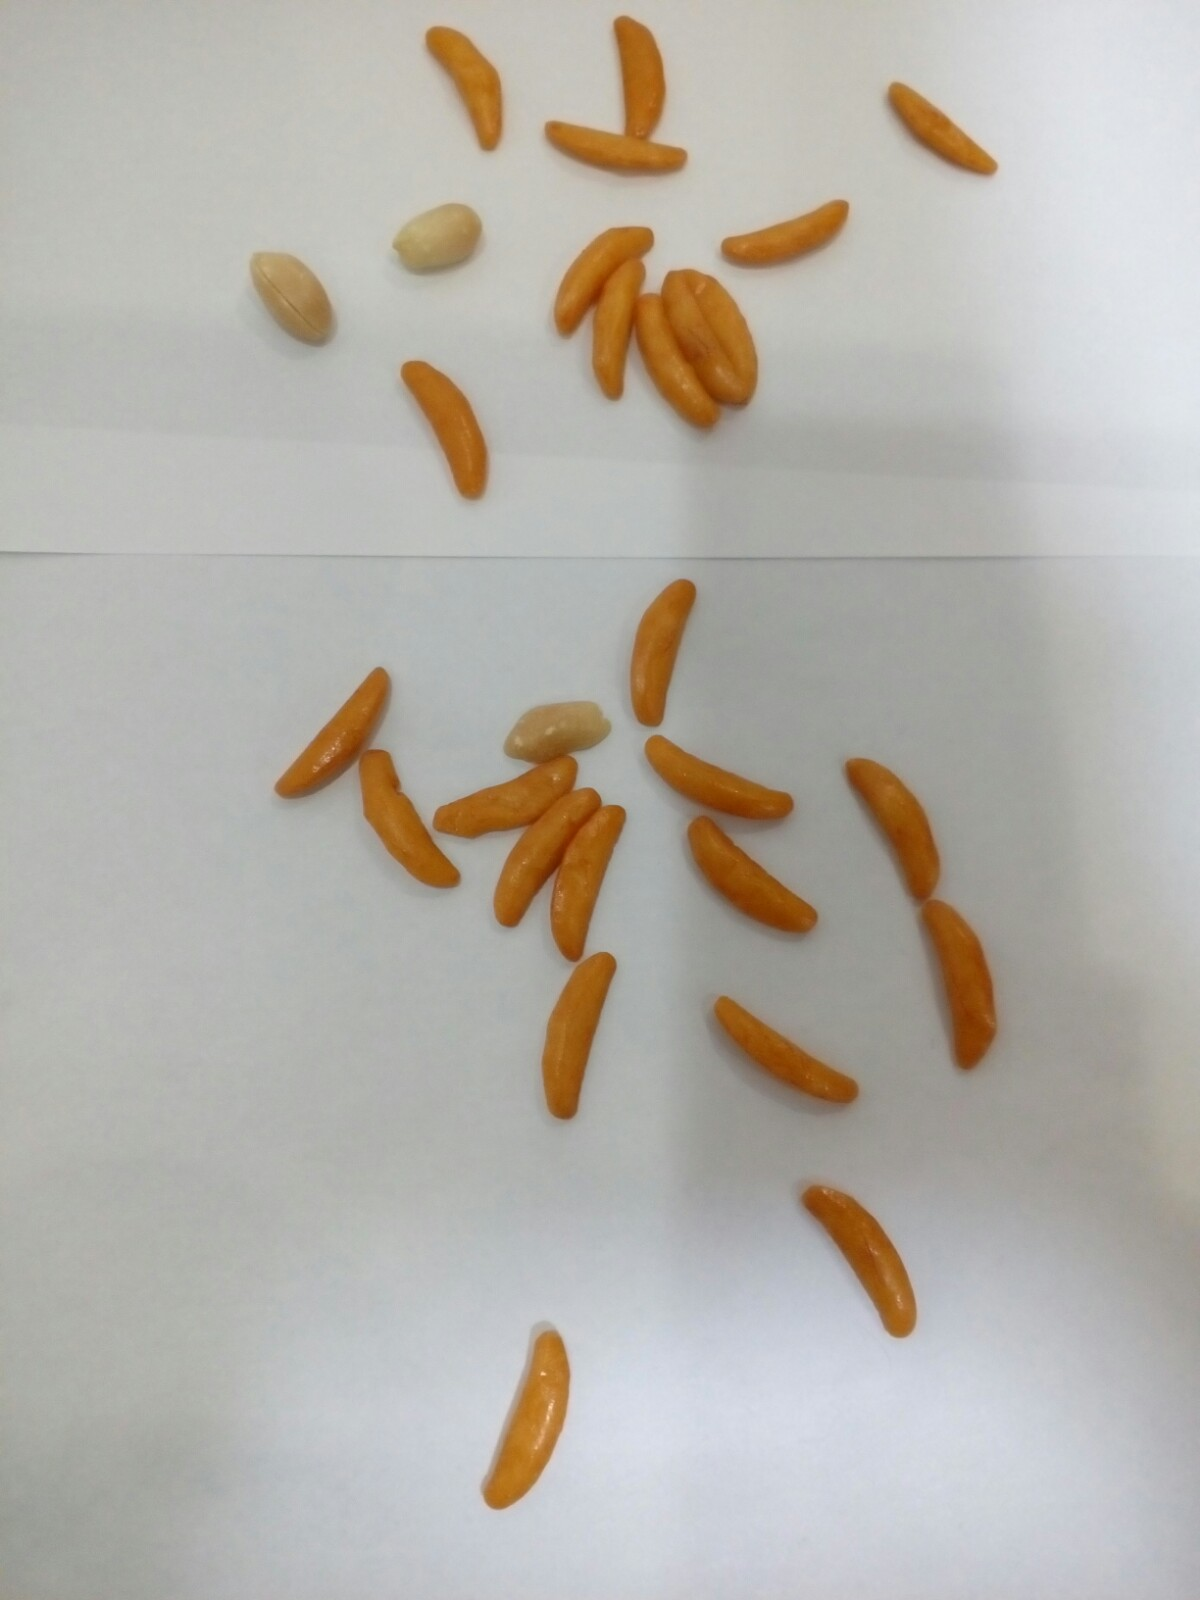peanut: (237, 239, 355, 365), (495, 689, 621, 774), (392, 197, 482, 278)
